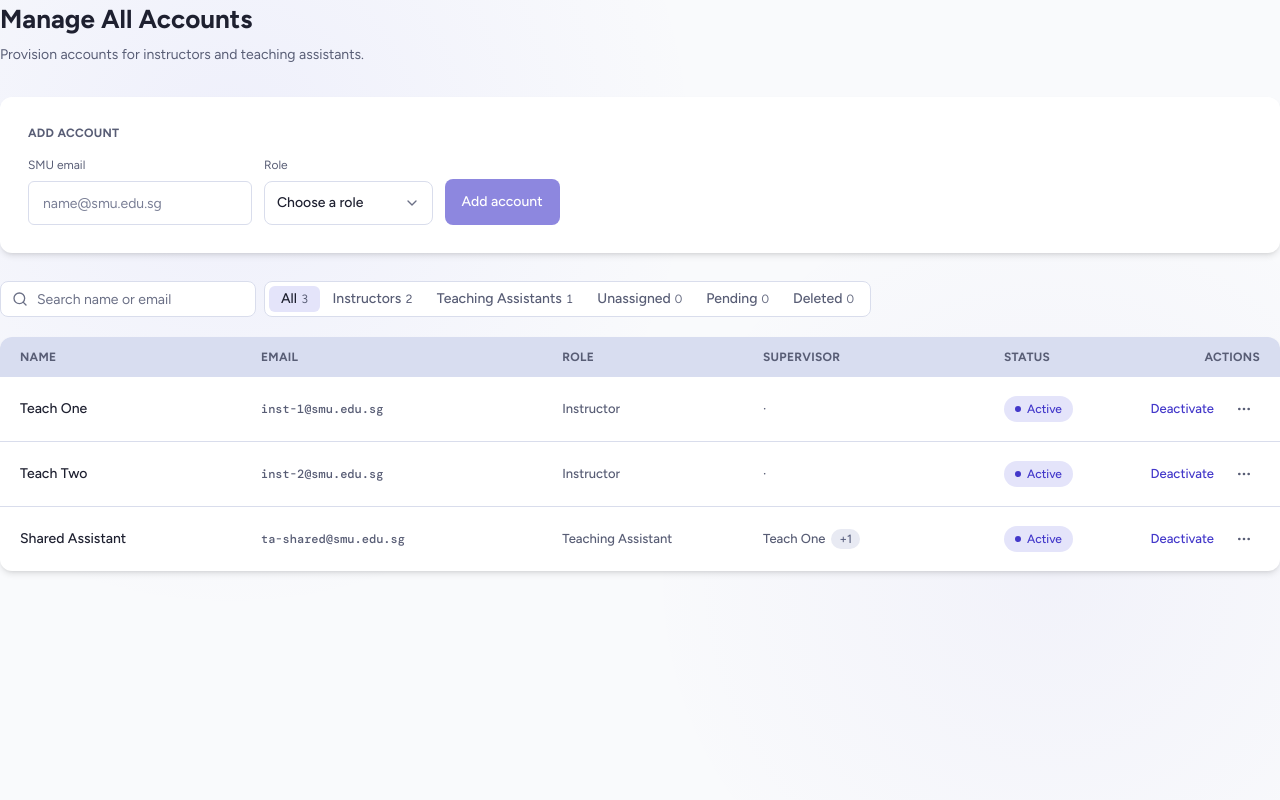
UsersPage — the supervisor column › names the first supervisor, counts the rest, and opens the full list
Click the button named "Supervised by Teach One and Teach Two". click: click(846, 539)
box: 831,529 -> 860,549
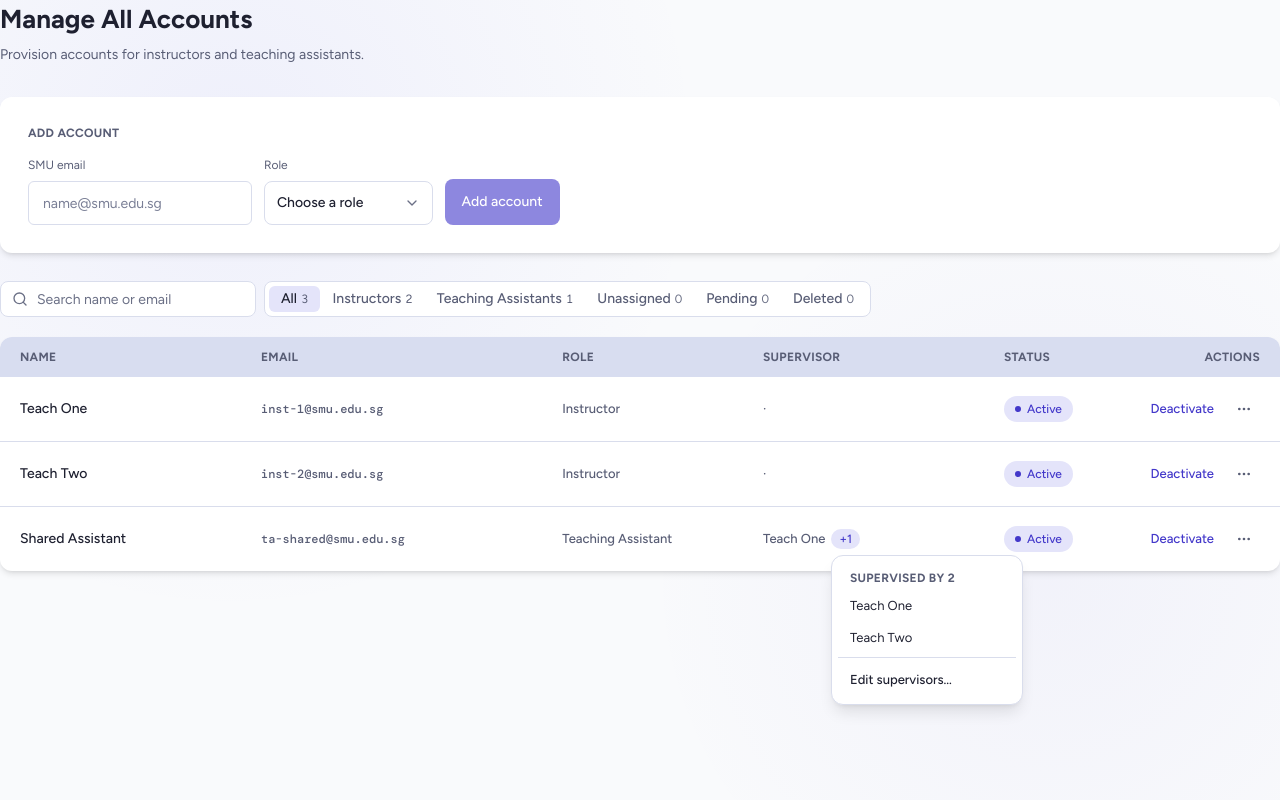
Click the button "Edit supervisors…". click: click(927, 680)
box: 838,662 -> 1016,698
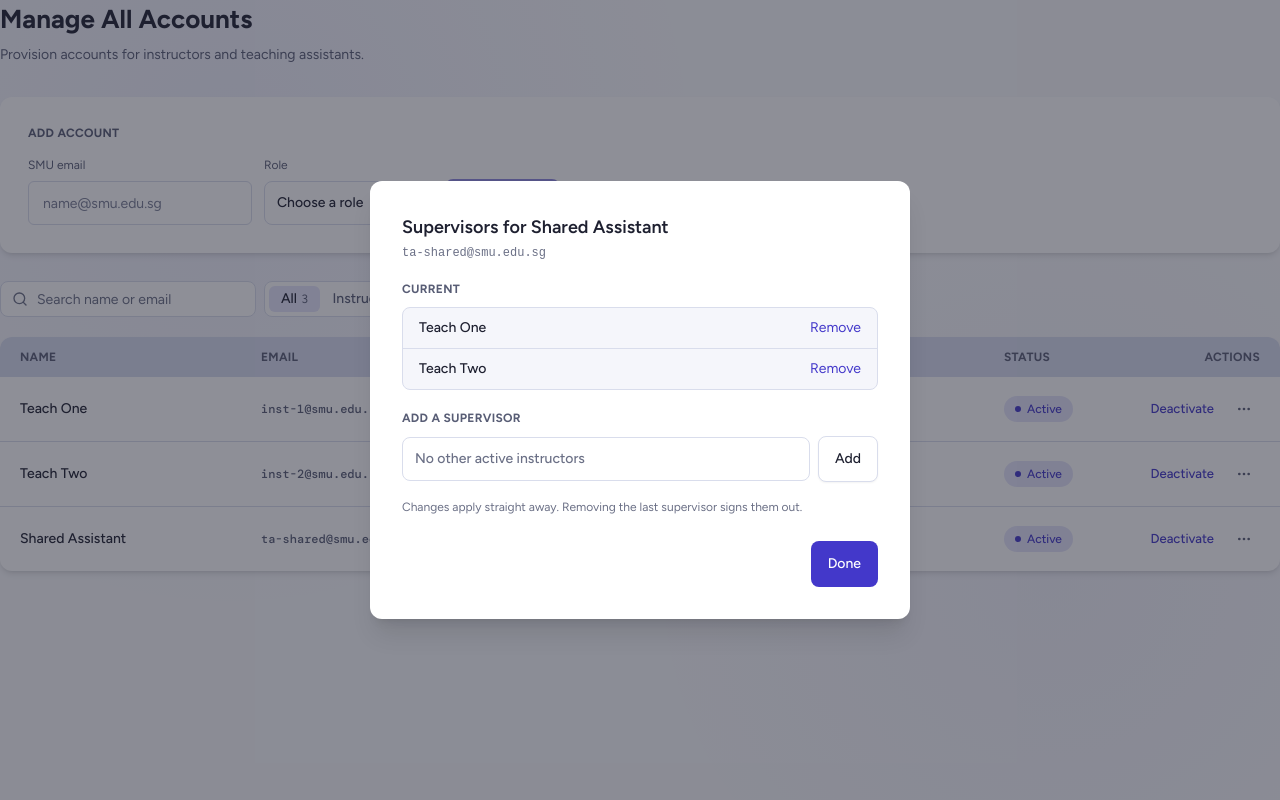
Expected: the dialog "Supervisors for Shared Assistant" is shown, 370,181 -> 910,619
